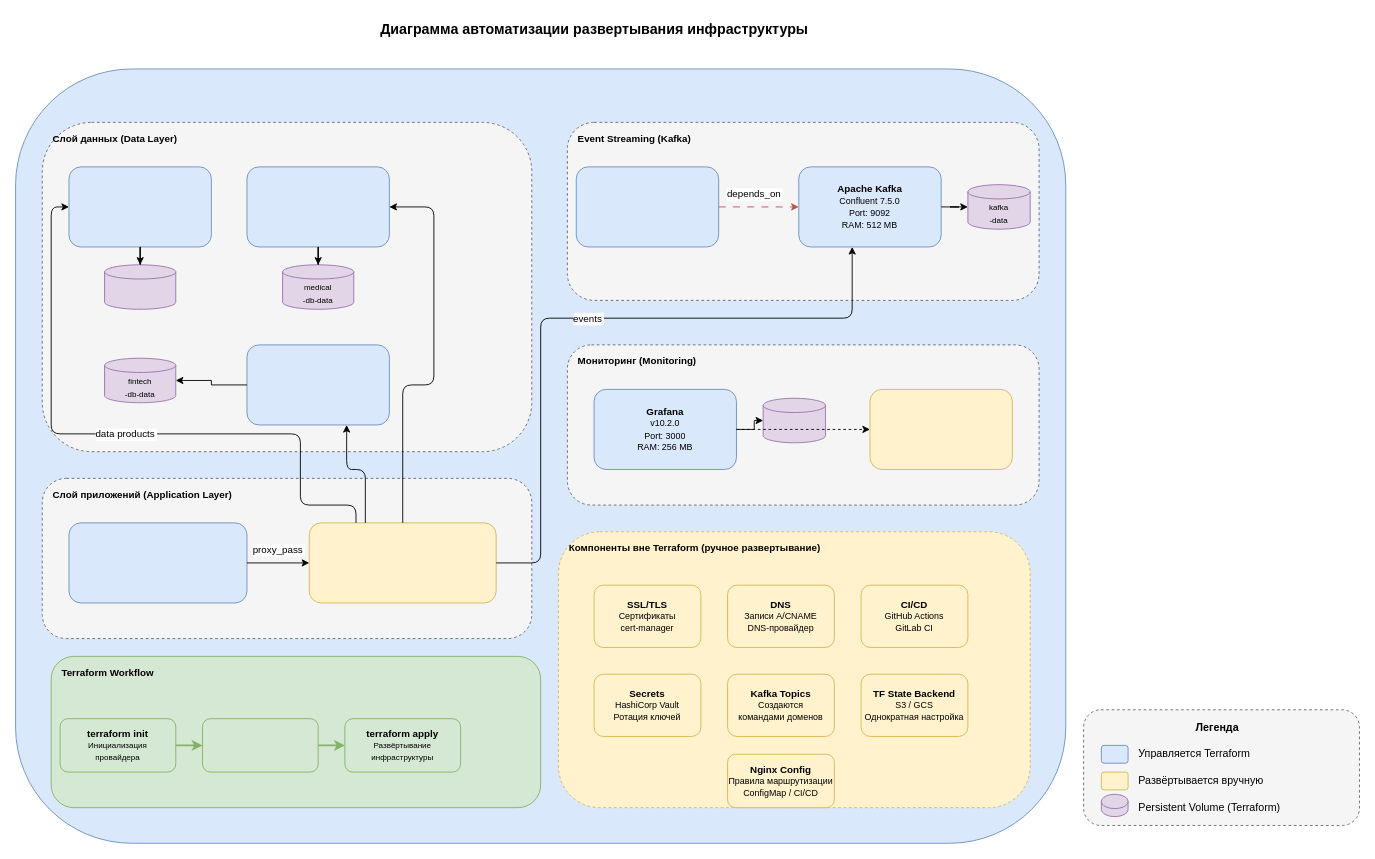
The diagram is 1375 pixels wide and 859 high, and some of its shapes have lost their labels. Each missing label, with the centre of its shape:
API Gateway Nginx 1.25 HTTP: 8080 | HTTPS: 8443 RAM: 128 MB: point (157, 562)
Data Lakehouse PostgreSQL 16 Port: 5432 RAM: 512 MB: point (139, 206)
Fintech Domain DB PostgreSQL 16 Port: 5434 RAM: 256 MB: point (317, 384)
grafana -data: point (793, 420)
lakehouse -data: point (140, 286)
Medical Domain DB PostgreSQL 16 Port: 5433 RAM: 256 MB: point (317, 206)
Prometheus (деплоится вручную): point (940, 428)
terraform plan Просмотр изменений: point (260, 745)
Zookeeper Confluent 7.5.0 Port: 2181 RAM: 256 MB: point (647, 206)
Доменные сервисы Medical | Fintech | AI | Corporate (деплоятся через CI/CD): point (402, 562)
